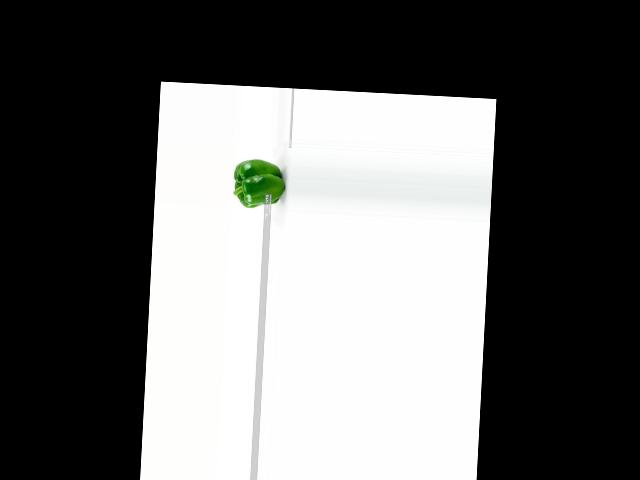bell_pepper: (229, 156, 288, 209)
